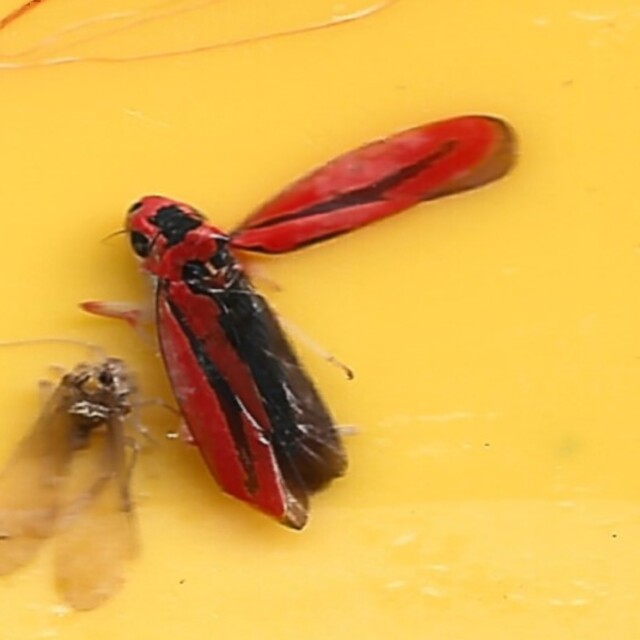Hemiptera: (120, 110, 520, 530)
